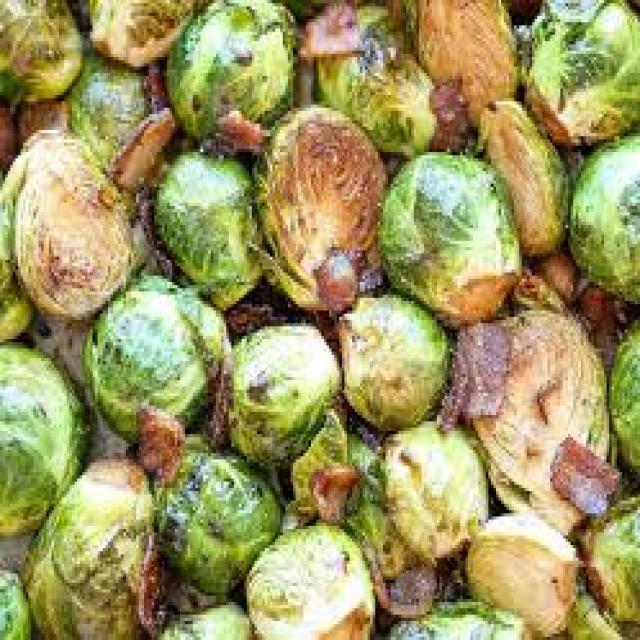organic waste: (0, 0, 637, 637), (478, 307, 614, 529), (249, 99, 388, 308), (20, 450, 162, 637), (372, 149, 522, 323), (82, 266, 226, 434), (10, 133, 136, 317), (147, 438, 280, 592), (162, 0, 296, 149), (308, 0, 434, 152), (146, 146, 264, 301), (514, 0, 637, 143), (378, 0, 514, 127), (213, 320, 337, 459), (460, 507, 584, 637), (0, 336, 82, 532), (378, 412, 483, 564), (242, 516, 372, 637), (336, 285, 444, 425), (476, 98, 566, 250), (59, 25, 152, 165), (566, 124, 638, 304), (568, 491, 637, 621), (437, 320, 511, 434), (0, 0, 82, 101), (288, 406, 352, 529), (79, 0, 200, 63), (0, 136, 33, 339), (602, 310, 638, 485), (378, 596, 534, 636), (552, 434, 624, 516), (370, 535, 432, 621), (128, 529, 175, 637), (154, 589, 257, 637), (108, 111, 177, 180), (131, 406, 190, 484), (563, 282, 627, 352), (342, 425, 383, 529), (293, 0, 360, 60), (560, 589, 638, 637), (131, 177, 167, 279), (422, 67, 465, 152), (8, 95, 72, 149), (200, 345, 232, 447), (218, 291, 290, 336), (203, 108, 270, 155), (514, 266, 566, 317), (529, 247, 576, 301), (0, 561, 33, 637), (136, 60, 172, 117), (0, 104, 18, 164)
